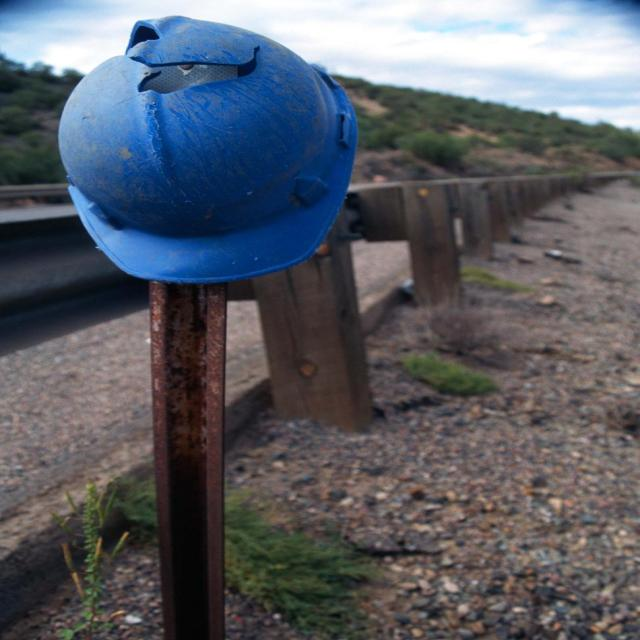BrokenHelmet: (112, 17, 265, 100)
